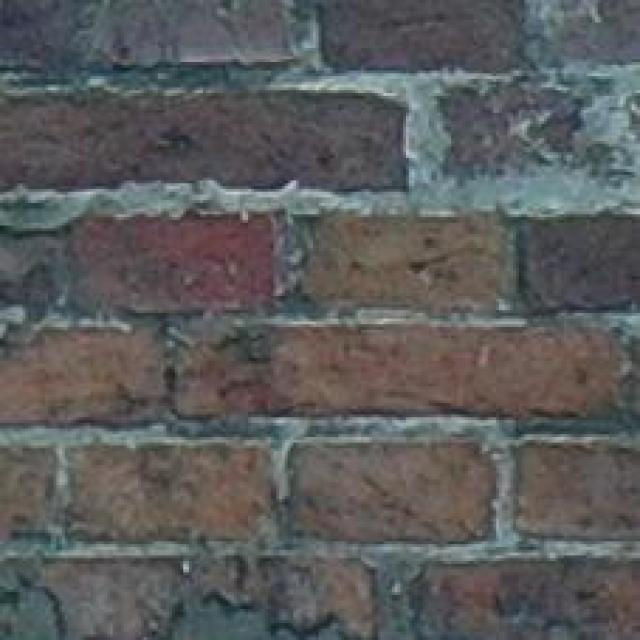Crack: (361, 33, 640, 280)
